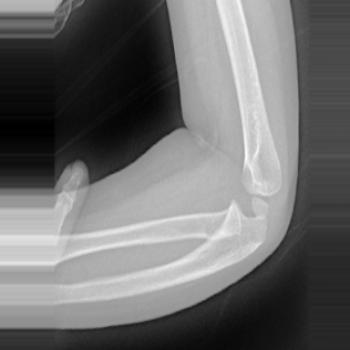Fracture: (227, 179, 261, 224)
